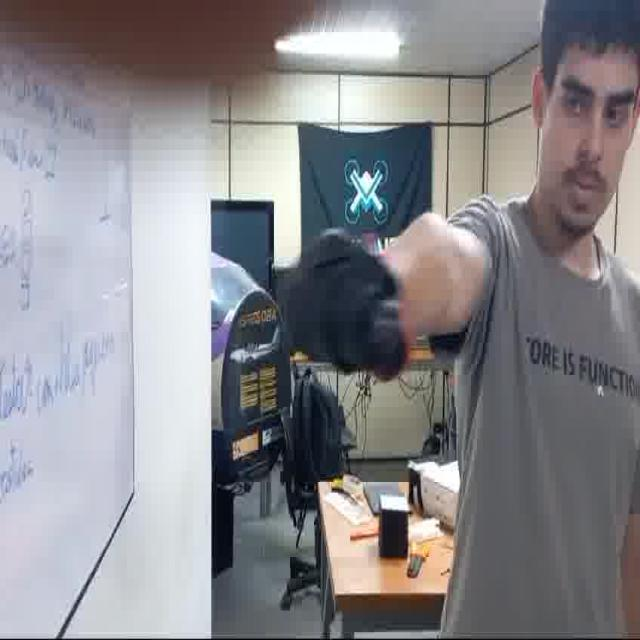Gloves: (286, 230, 409, 382)
